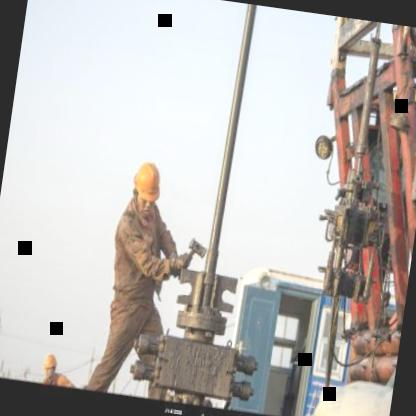helmet: (124, 153, 166, 222), (41, 346, 59, 379)
